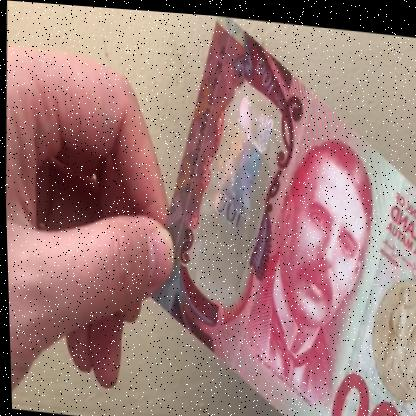100F: (181, 85, 283, 299)
